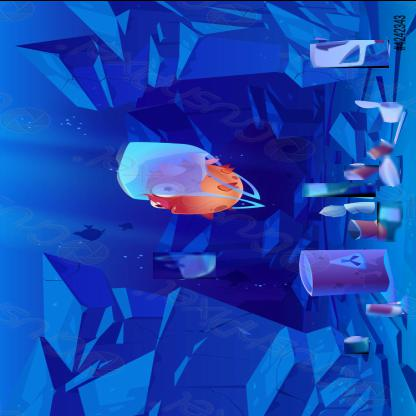bottle: (310, 38, 390, 67), (302, 181, 377, 196), (377, 198, 403, 240)
waste: (153, 250, 217, 278), (379, 154, 401, 184), (344, 163, 380, 179), (367, 139, 396, 158), (378, 101, 404, 121), (366, 302, 403, 316), (344, 335, 370, 353)
